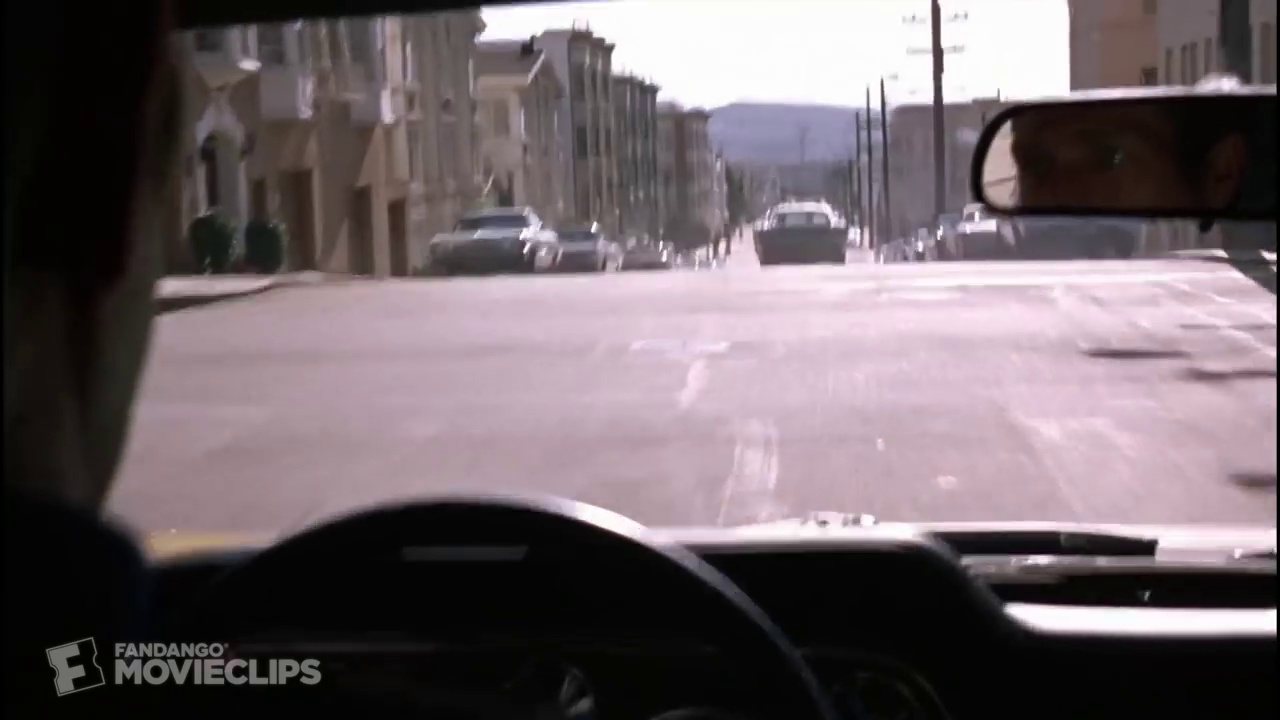car: (190, 468, 1258, 720), (420, 201, 569, 285), (739, 191, 863, 276), (990, 213, 1147, 264), (542, 205, 632, 282), (941, 201, 1002, 267)
person: (1, 1, 208, 535), (1003, 104, 1265, 214)
